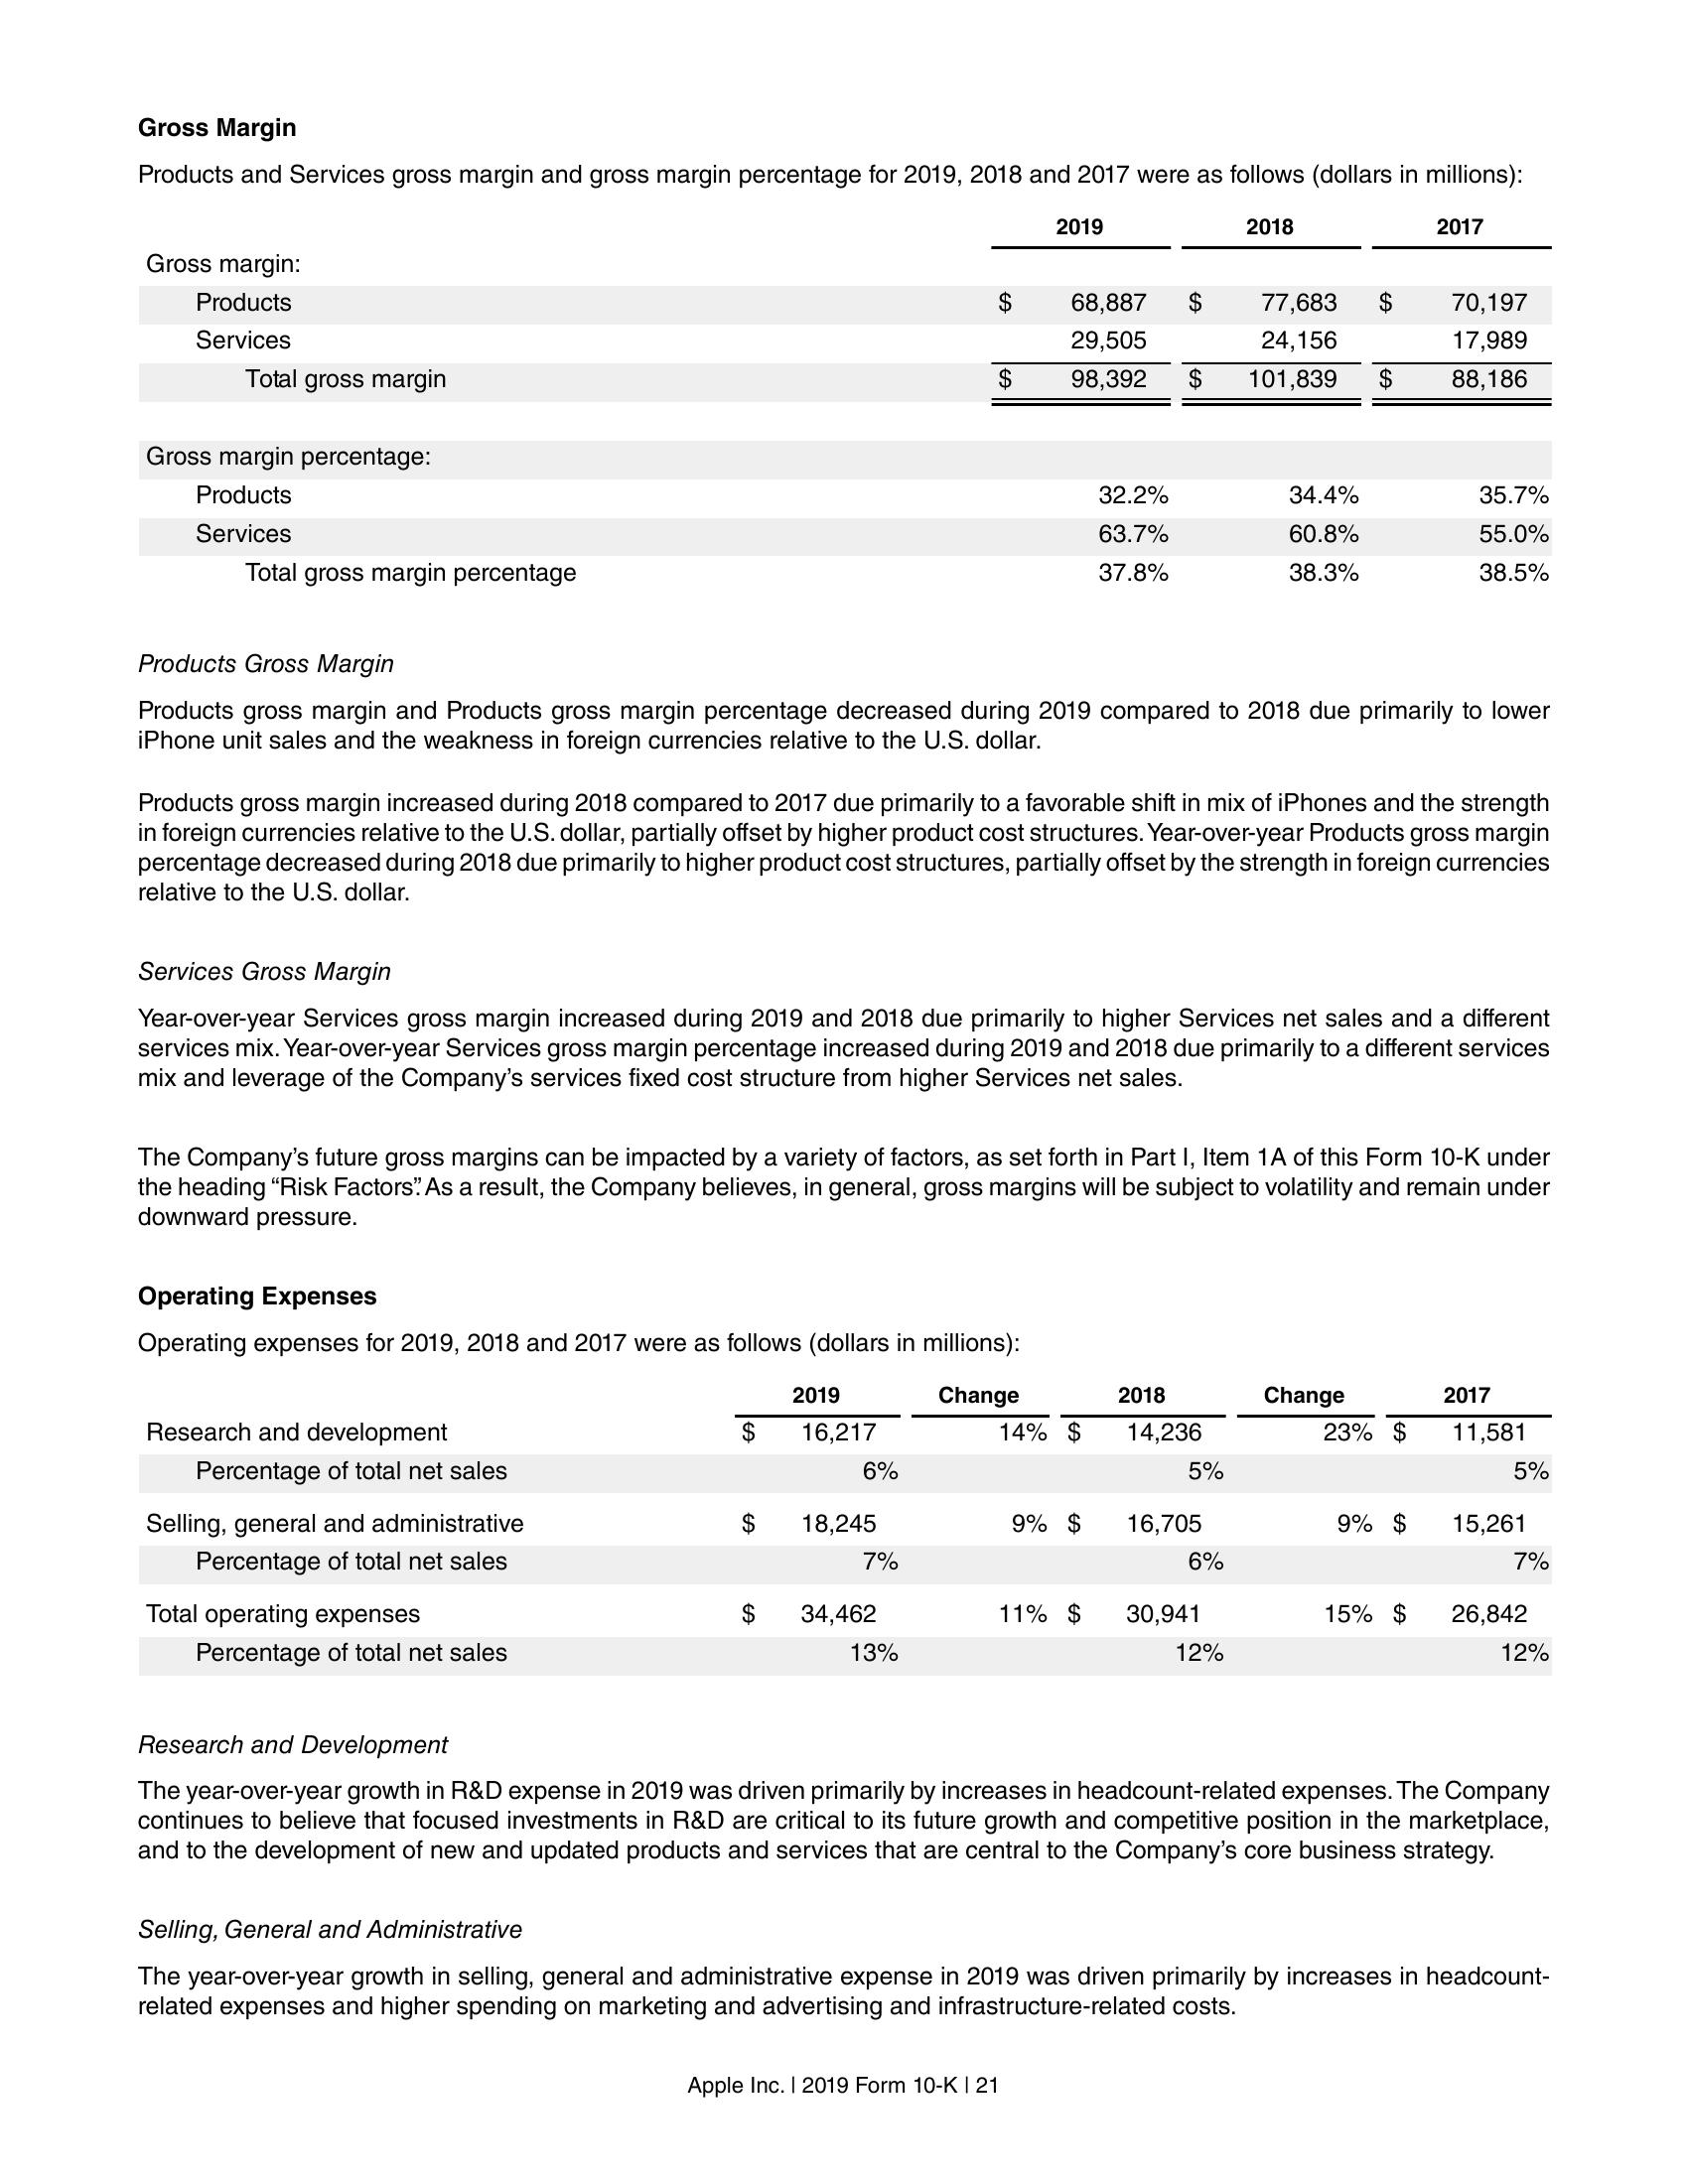table: (138, 209, 1557, 592), (138, 1383, 1560, 1675)
